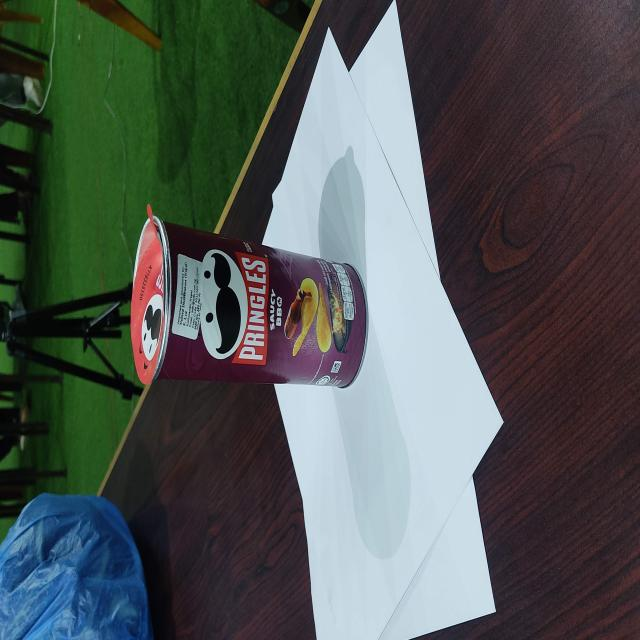Pringles: (130, 205, 368, 389)
